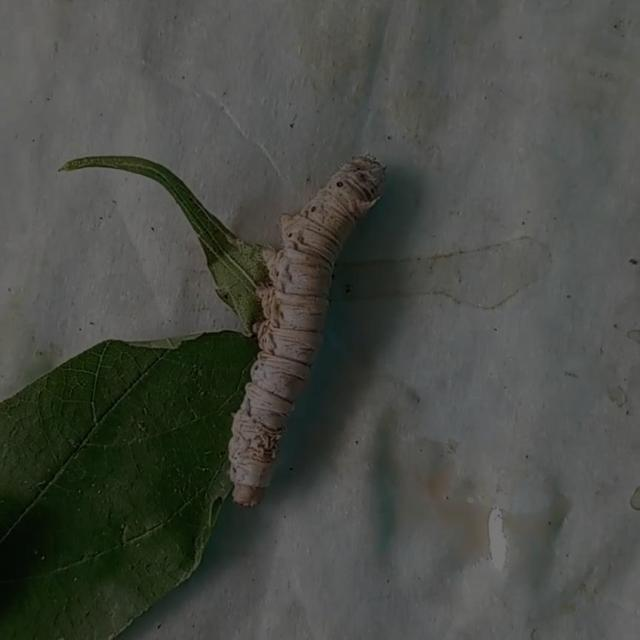Grasserie: (208, 136, 388, 516)
